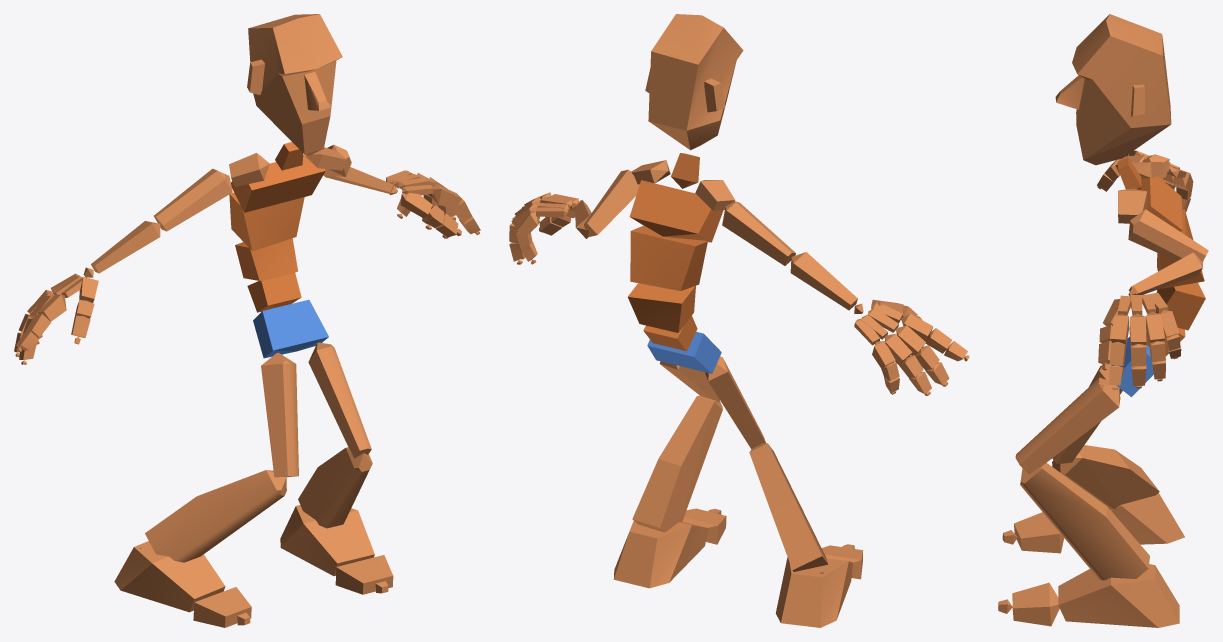
3 renders of one model, left to right at view 1: azimuth 30°, elevation 25°; view 2: azimuth 150°, elevation 25°; view 3: azimuth 270°, elevation 25°, orthographic. The views are drawn at different scales.
Visible parts, largest first — view 1: BOPED_Head, BOPED_R_leg, BOPED_R_foot, BOPED_R_foot01, BOPED_R_legup, BOPED_L_leg, Bone01, BOPED_L_legup, Bone04, Bone05, BOPED_R_arm_upper, Bone03 (+7 smaller); view 2: BOPED_Head, BOPED_L_leg, BOPED_R_foot01, BOPED_R_foot, BOPED_R_leg, Bone04, Bone05, Bone03, BOPED_R_legup, BOPED_R_arm_upper, Bone01, BOPED_L_arm_upper (+8 smaller); view 3: BOPED_Head, BOPED_L_leg, BOPED_R_foot01, BOPED_R_leg, BOPED_L_legup, BOPED_R_foot, BOPED_L_arm_upper, BOPED_R_foot_toe04, BOPED_R_foot_toe01, Bone05, Bone03, BOPED_L_arm_fore (+13 smaller).
Part boxes in pixels (x1,y1,x2,y2): BOPED_Head: (247, 14, 342, 155); BOPED_R_leg: (145, 470, 286, 562); BOPED_R_foot: (114, 541, 225, 612); BOPED_R_foot01: (280, 505, 374, 575); BOPED_R_legup: (261, 352, 298, 477); BOPED_L_leg: (298, 447, 372, 528); Bone01: (253, 299, 328, 358); BOPED_L_legup: (308, 342, 371, 458); Bone04: (229, 192, 304, 251); Bone05: (231, 154, 325, 212); BOPED_R_arm_upper: (154, 168, 232, 231); Bone03: (235, 238, 297, 280); BOPED_Head: (645, 14, 743, 150); BOPED_L_leg: (632, 395, 722, 532); BOPED_R_foot01: (613, 520, 708, 588); BOPED_R_foot: (775, 557, 852, 627); BOPED_R_leg: (749, 443, 828, 571); Bone04: (630, 226, 707, 290); Bone05: (629, 180, 723, 242); Bone03: (628, 283, 695, 332); BOPED_R_legup: (705, 356, 765, 449); BOPED_R_arm_upper: (722, 201, 795, 265); Bone01: (647, 331, 721, 373); BOPED_L_arm_upper: (584, 169, 639, 236); BOPED_Head: (1055, 14, 1171, 165); BOPED_L_leg: (1020, 463, 1149, 580); BOPED_R_foot01: (1058, 564, 1179, 627); BOPED_R_leg: (1052, 445, 1159, 509); BOPED_L_legup: (1015, 377, 1120, 474); BOPED_R_foot: (1110, 493, 1184, 544); BOPED_L_arm_upper: (1128, 209, 1208, 261); BOPED_R_foot_toe04: (1012, 582, 1059, 626); BOPED_R_foot_toe01: (1014, 512, 1064, 553); Bone05: (1140, 176, 1182, 231); Bone03: (1156, 282, 1205, 330); BOPED_L_arm_fore: (1129, 252, 1203, 294).
Size of the model in its own units: 151 by 173 by 57.28.
